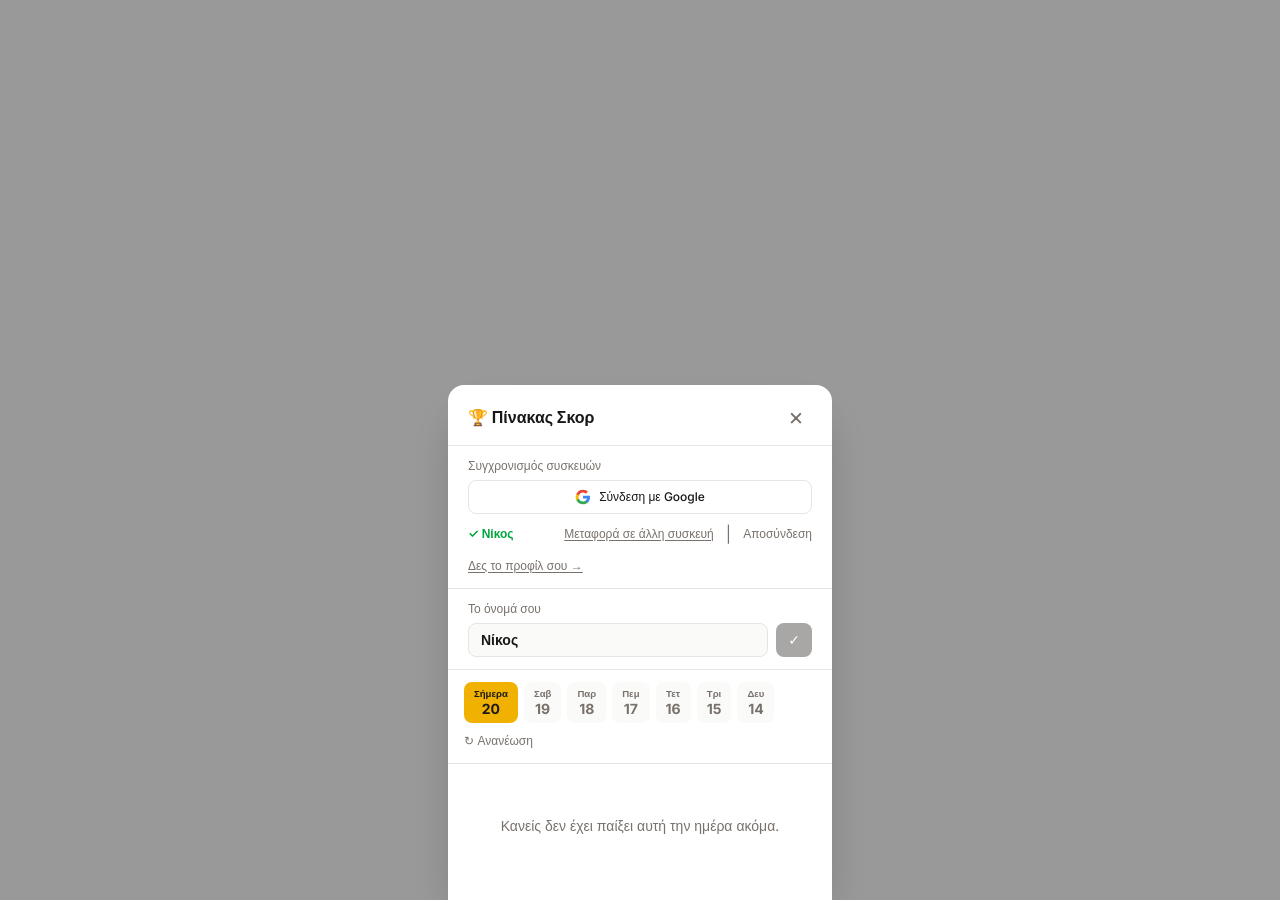
LeaderboardModal — profile section (linked) › clicking 'Αποσύνδεση' shows confirmation row, not immediately disconnecting
The image size is (1280, 900).
Click the button "Αποσύνδεση". click: [778, 534]
box: [743,526,812,542]
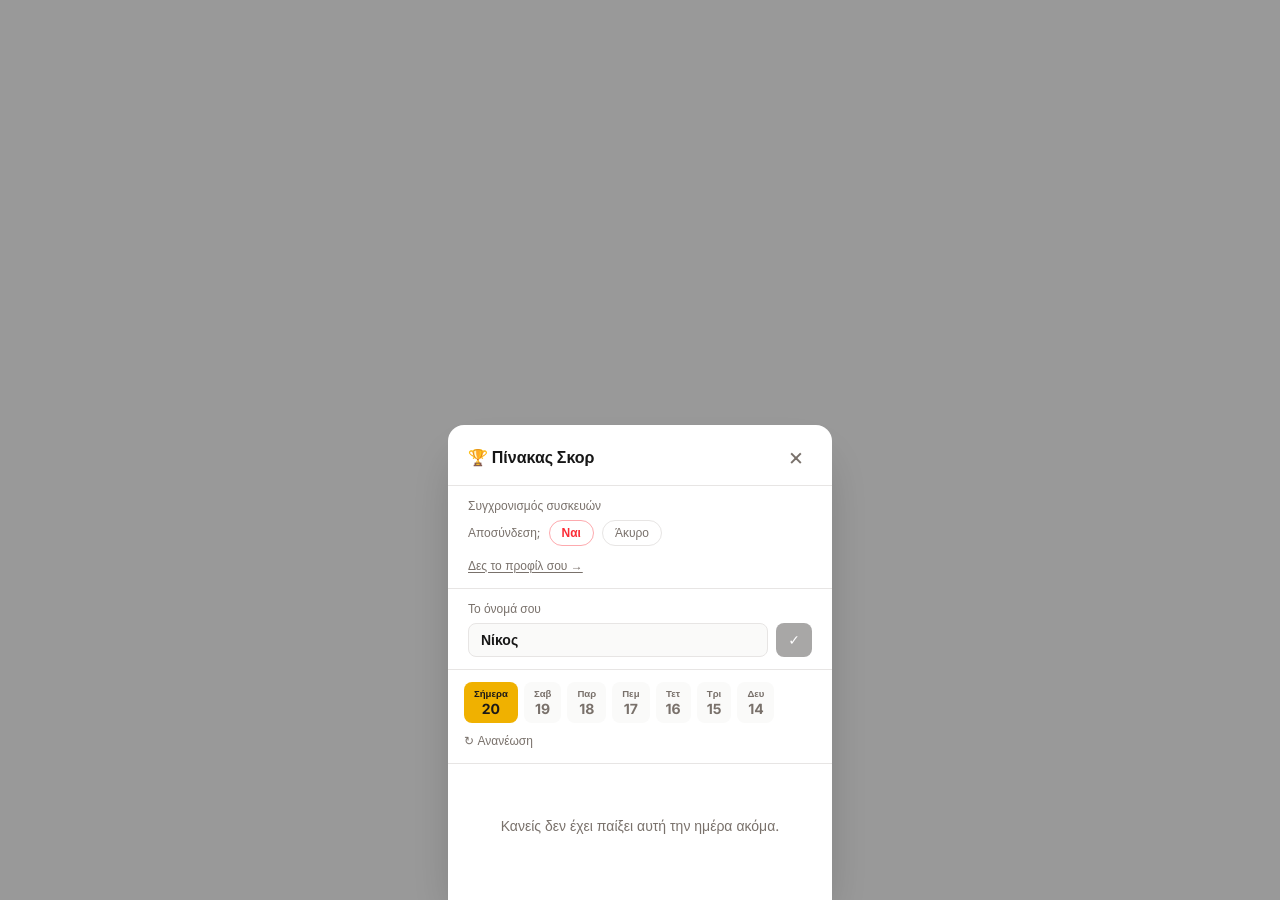
Expected: the button with test id "btn-disconnect-confirm" is shown, [548,520,594,546]
